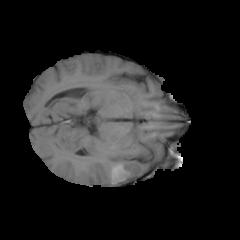glioma: (103, 153, 149, 186)
